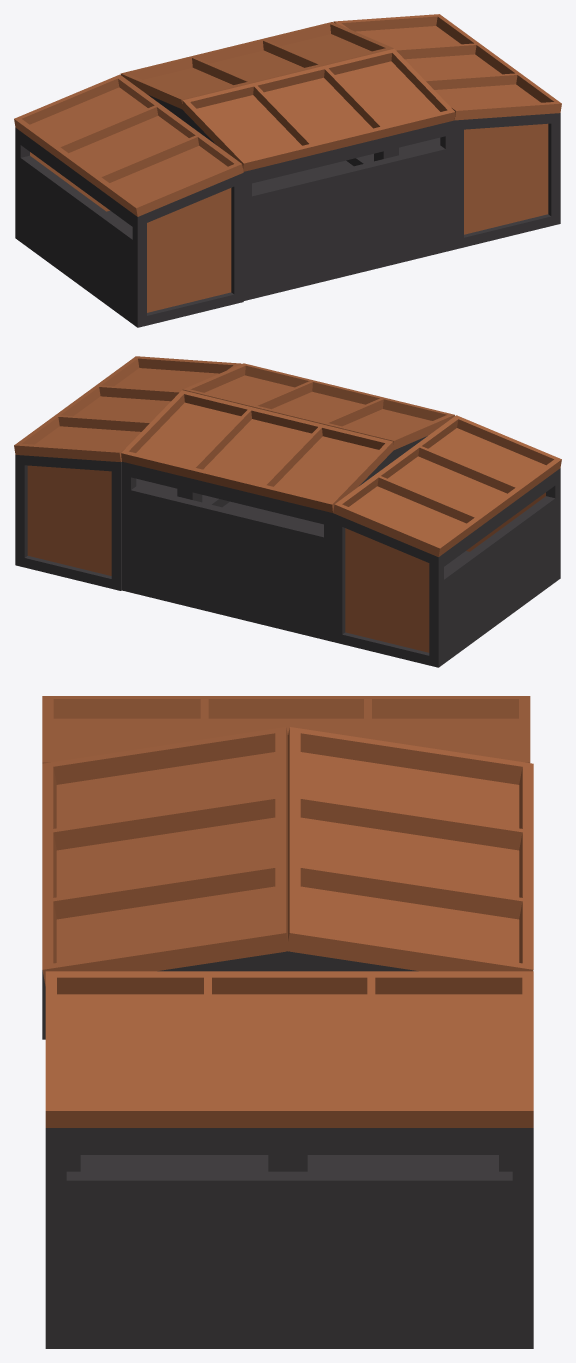
The model's file is SM_LowShelf_01.fbx.
3 views of the same model, one above another, from view 1: azimuth 30°, elevation 25°; view 2: azimuth 150°, elevation 25°; view 3: azimuth 270°, elevation 25° (orthographic). The views are drawn at different scales.
Visible parts, largest first — view 1: SM_LowShelf_01; view 2: SM_LowShelf_01; view 3: SM_LowShelf_01.
Boxes of the visible parts, left/top/right/bottom form: SM_LowShelf_01: left=14, top=14, right=561, bottom=327; SM_LowShelf_01: left=14, top=356, right=561, bottom=667; SM_LowShelf_01: left=42, top=696, right=533, bottom=1348.
Size of the model in its own units: 242 by 84.93 by 121.
